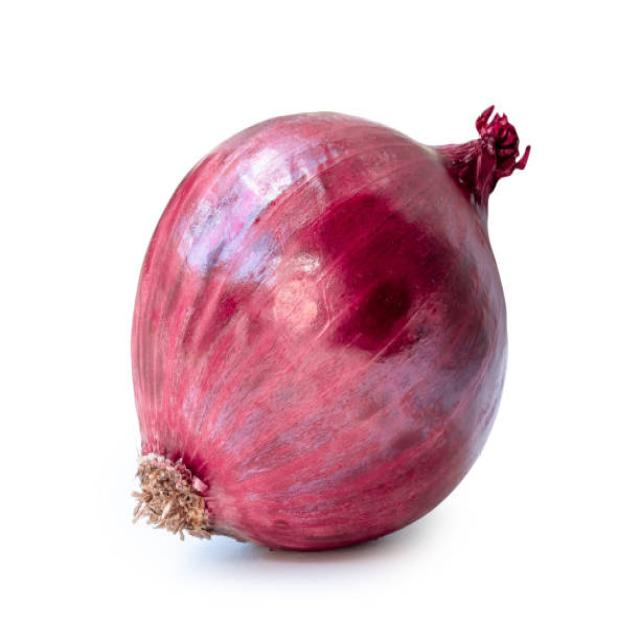onion: (115, 101, 511, 590)
